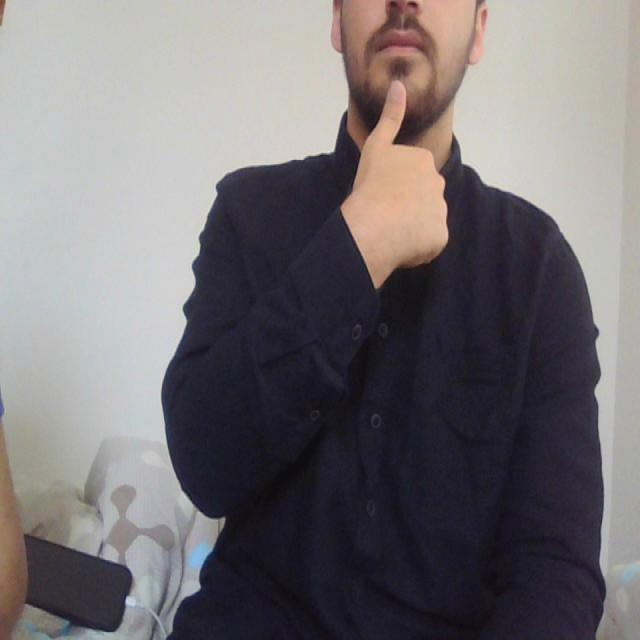Baba: (356, 24, 438, 140)
